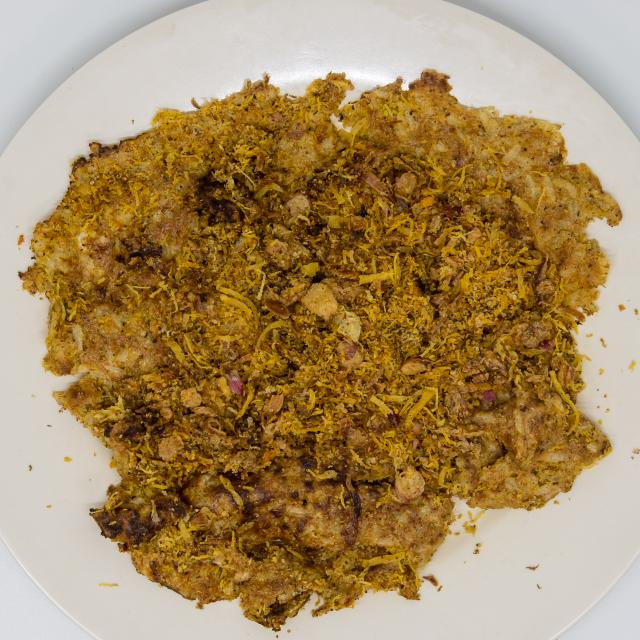Kerak-Telor: (20, 49, 628, 622)
